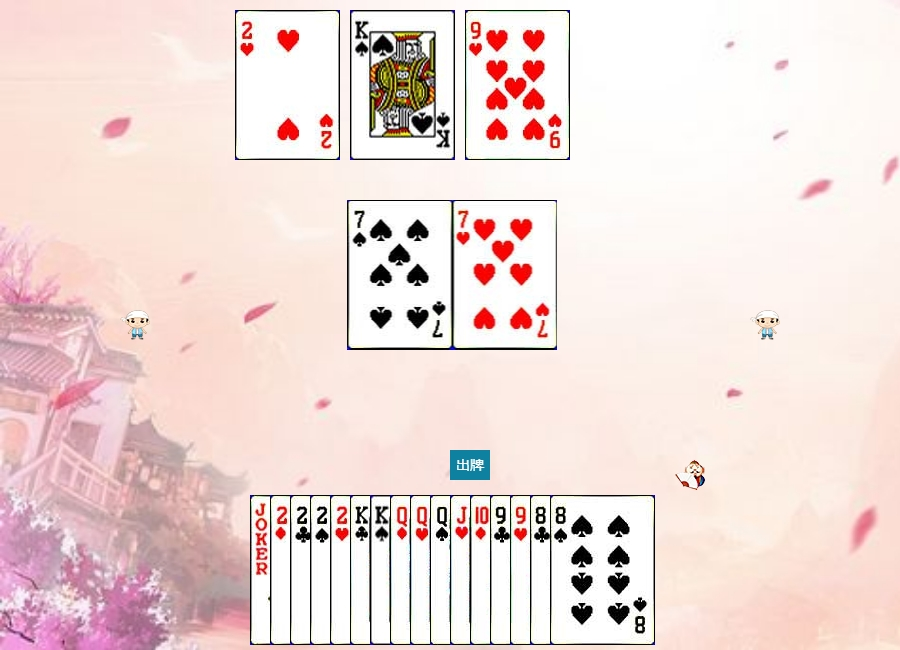10~1: (470, 495, 575, 645)
11~3: (450, 495, 555, 645)
12~1: (390, 495, 495, 645)
12~3: (410, 495, 515, 645)
12~4: (430, 495, 535, 645)
13~2: (350, 495, 455, 645)
13~4: (350, 10, 455, 160), (370, 495, 475, 645)
15~1: (270, 495, 375, 645)
15~2: (290, 495, 395, 645)
15~3: (235, 10, 340, 160), (330, 495, 435, 645)
15~4: (310, 495, 415, 645)
18~4: (250, 495, 355, 645)
7~3: (453, 200, 558, 350)
7~4: (348, 200, 453, 350)
8~2: (530, 495, 635, 645)
8~4: (550, 495, 655, 645)
9~2: (490, 495, 595, 645)
9~3: (465, 10, 570, 160), (510, 495, 615, 645)
